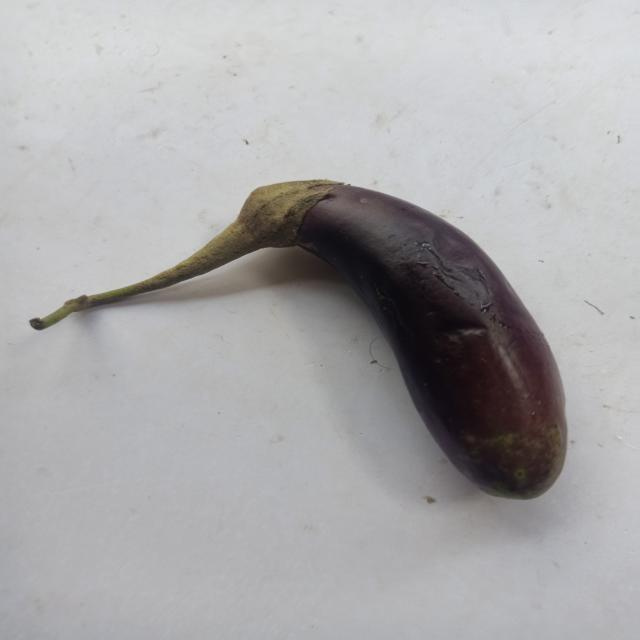Brinjal: (16, 158, 590, 530)
